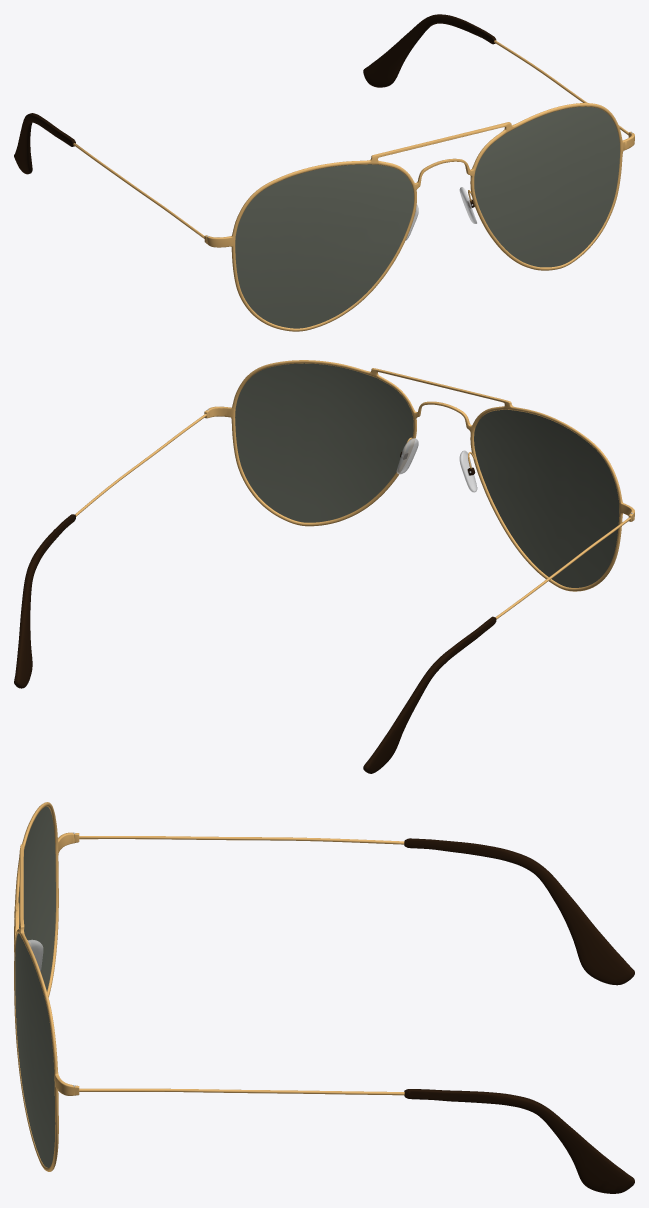
Rendered from aviador-clasico.glb.
3 views of the same model, one above another, from view 1: azimuth 30°, elevation 25°; view 2: azimuth 150°, elevation 25°; view 3: azimuth 270°, elevation 25° (orthographic). The views are drawn at different scales.
Parts seen in each view (by area): view 1: lente, Aviators_Gold metallic_0, Aviators_Black gloss_0; view 2: lente, Aviators_Gold metallic_0, Aviators_Black gloss_0, Aviators_Transparent_0; view 3: lente, Aviators_Black gloss_0, Aviators_Gold metallic_0.
Part boxes in pixels (box(x1,y1,x2,y2)): lente: box(235, 106, 619, 328); Aviators_Gold metallic_0: box(73, 40, 634, 331); Aviators_Black gloss_0: box(14, 14, 496, 208); lente: box(235, 363, 619, 587); Aviators_Gold metallic_0: box(75, 360, 634, 619); Aviators_Black gloss_0: box(14, 451, 496, 773); Aviators_Transparent_0: box(396, 438, 477, 492); lente: box(15, 806, 55, 1167); Aviators_Black gloss_0: box(404, 838, 634, 1193); Aviators_Gold metallic_0: box(14, 802, 404, 1171).
Bounding box in the file's own units: 13.96 × 5.22 × 14.39.
